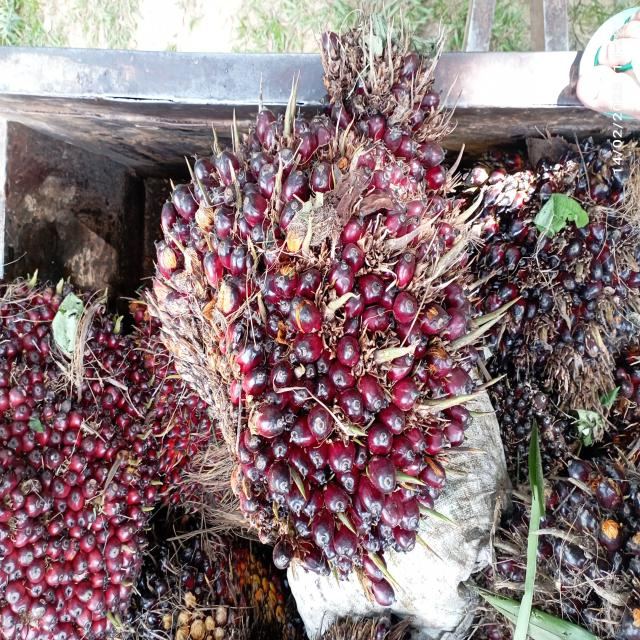fraksi 00: (505, 122, 640, 447)
fraksi 1: (140, 110, 492, 590), (0, 278, 188, 640)
